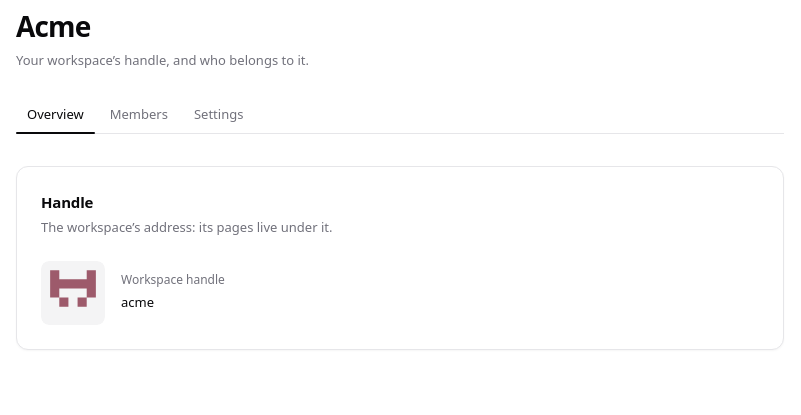
a handle the rules refuse cannot be submitted
This screenshot has width=801, height=415.
Click the button with aria-label "Edit workspace handle".
click(148, 302)  # box [115,290,180,314]
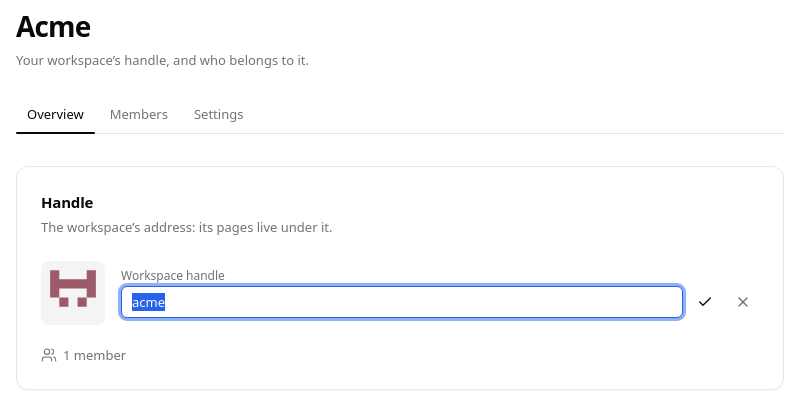
Replace the text in the field labelled "Workspace handle" with "not a handle" at (402, 302), box [121,286,683,318]
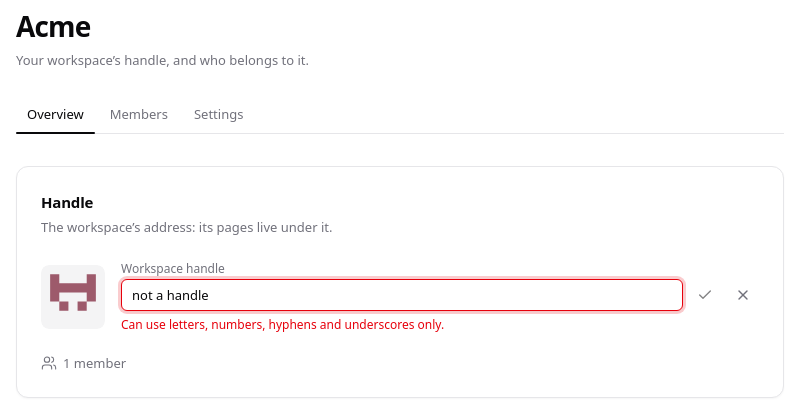
Expected: the button named "Save workspace handle" is disabled, [689,279,721,311]
